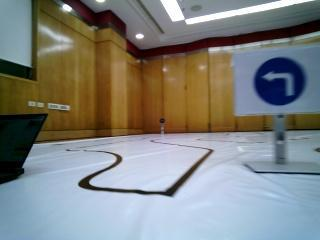left: (240, 57, 320, 110)
